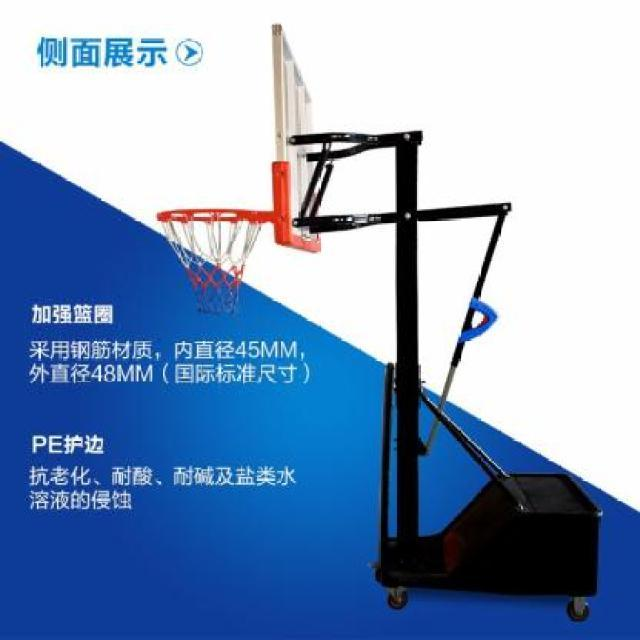rim: (160, 209, 268, 317)
